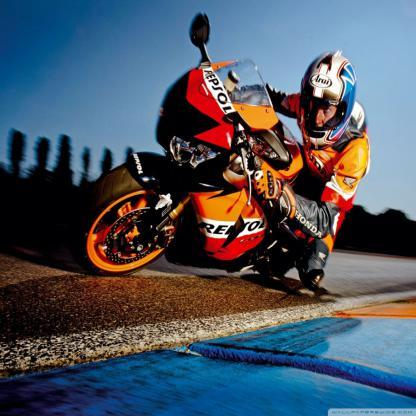Motorcycle: (72, 44, 314, 290)
